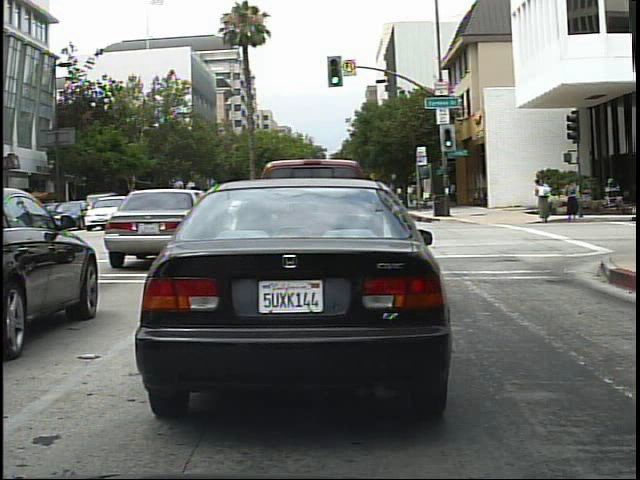person: (534, 172, 558, 227), (561, 175, 586, 224), (402, 180, 419, 212)
